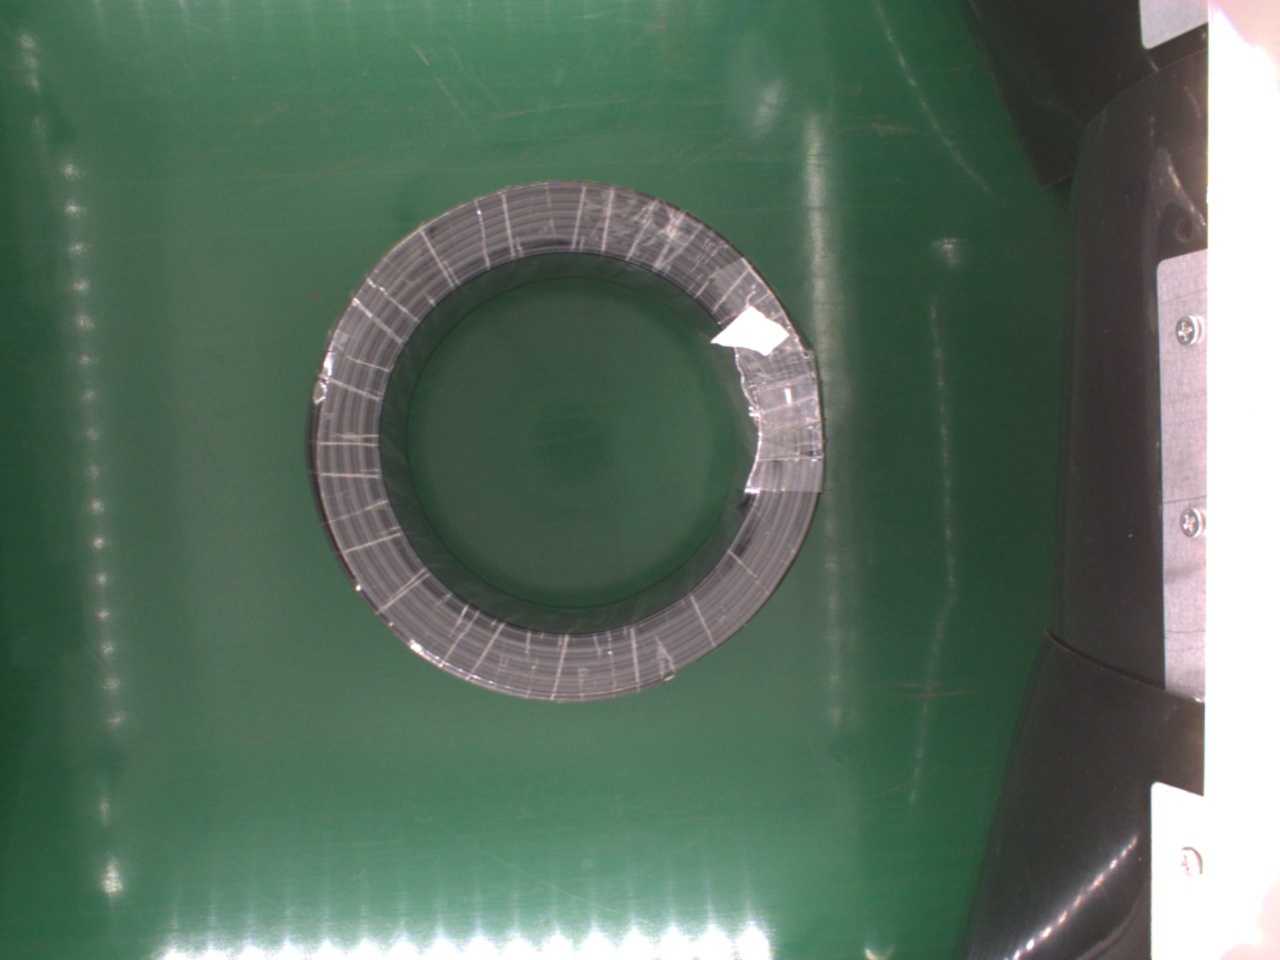black: (304, 181, 823, 699)
